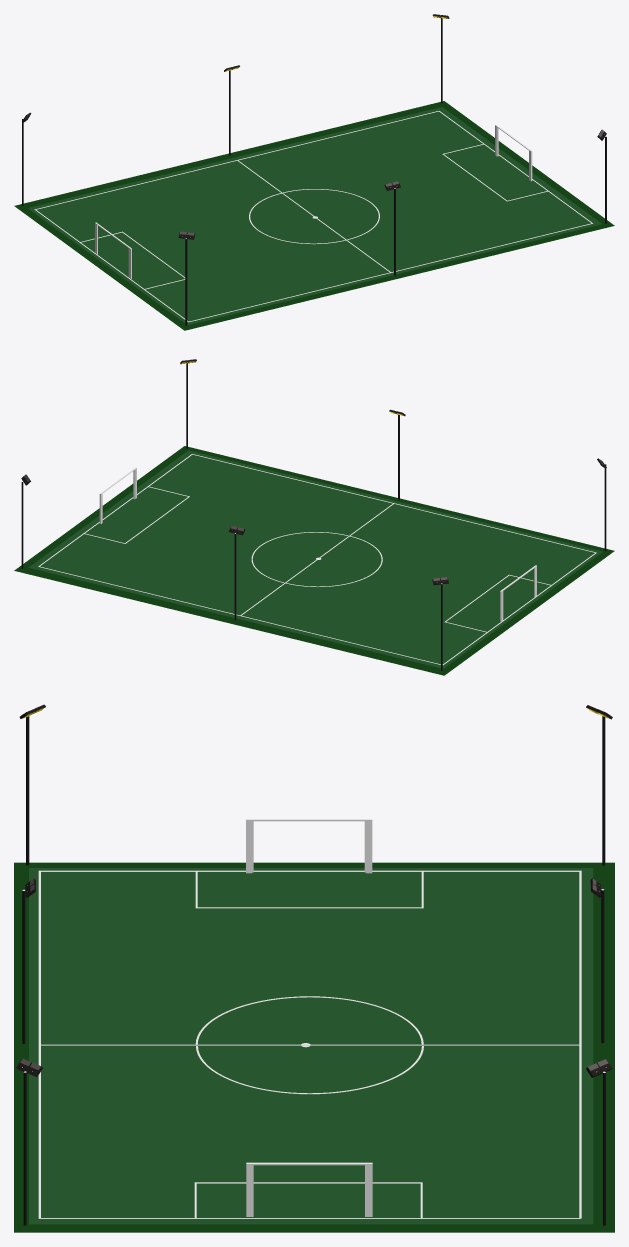
Rendered from cancha_futbol_5_con_reflectores.glb.
3 renders of one model, top to bottom at view 1: azimuth 30°, elevation 25°; view 2: azimuth 150°, elevation 25°; view 3: azimuth 270°, elevation 25°, orthographic. The views are drawn at different scales.
Parts seen in each view (by area): view 1: Object_6, Object_4, Object_16, Object_13, Object_17; view 2: Object_6, Object_4, Object_16, Object_13, Object_17; view 3: Object_6, Object_4, Object_16, Object_13, Object_17, Object_9.
Part boxes in pixels (x1,y1,x2,y2): Object_6: (28, 107, 601, 325); Object_4: (14, 101, 614, 330); Object_16: (34, 111, 592, 322); Object_13: (22, 18, 606, 325); Object_17: (95, 124, 532, 278); Object_6: (28, 450, 602, 668); Object_4: (14, 446, 614, 675); Object_16: (38, 454, 596, 665); Object_13: (21, 363, 606, 670); Object_17: (99, 467, 536, 621); Object_6: (29, 868, 593, 1224); Object_4: (14, 862, 614, 1232); Object_16: (38, 870, 581, 1218); Object_13: (22, 716, 605, 1225); Object_17: (246, 819, 372, 1216); Object_9: (16, 704, 612, 1077).
Bounding box in the file's own units: 3117 × 637 × 2141.
